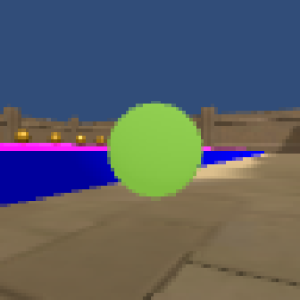goodGoal: (107, 101, 206, 200)
goodGoalMulti: (16, 129, 31, 141), (73, 133, 86, 145), (48, 130, 62, 141), (93, 134, 105, 145)
platform: (1, 151, 109, 201)
ramp: (1, 142, 74, 151)
